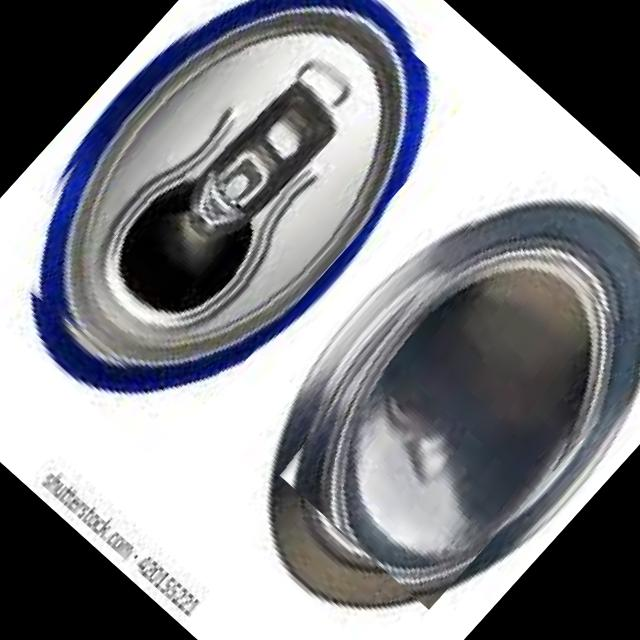Cans: (0, 0, 472, 431), (257, 197, 640, 610)
